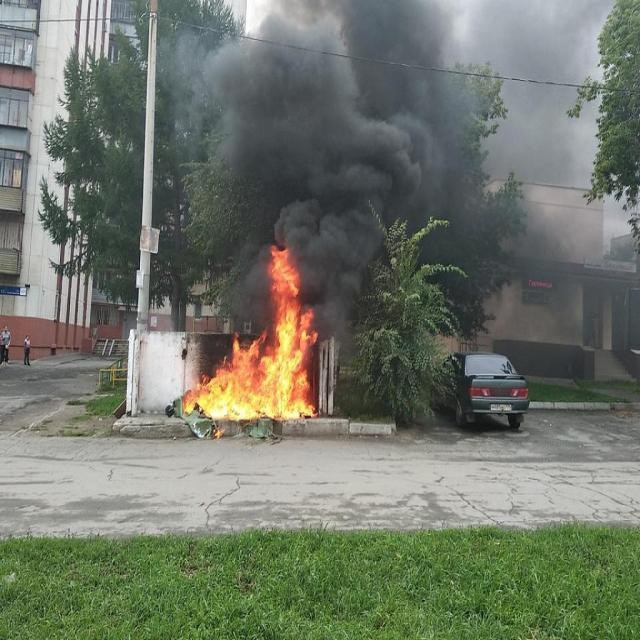Fire: (183, 246, 317, 420)
Smoke: (184, 0, 476, 329)
